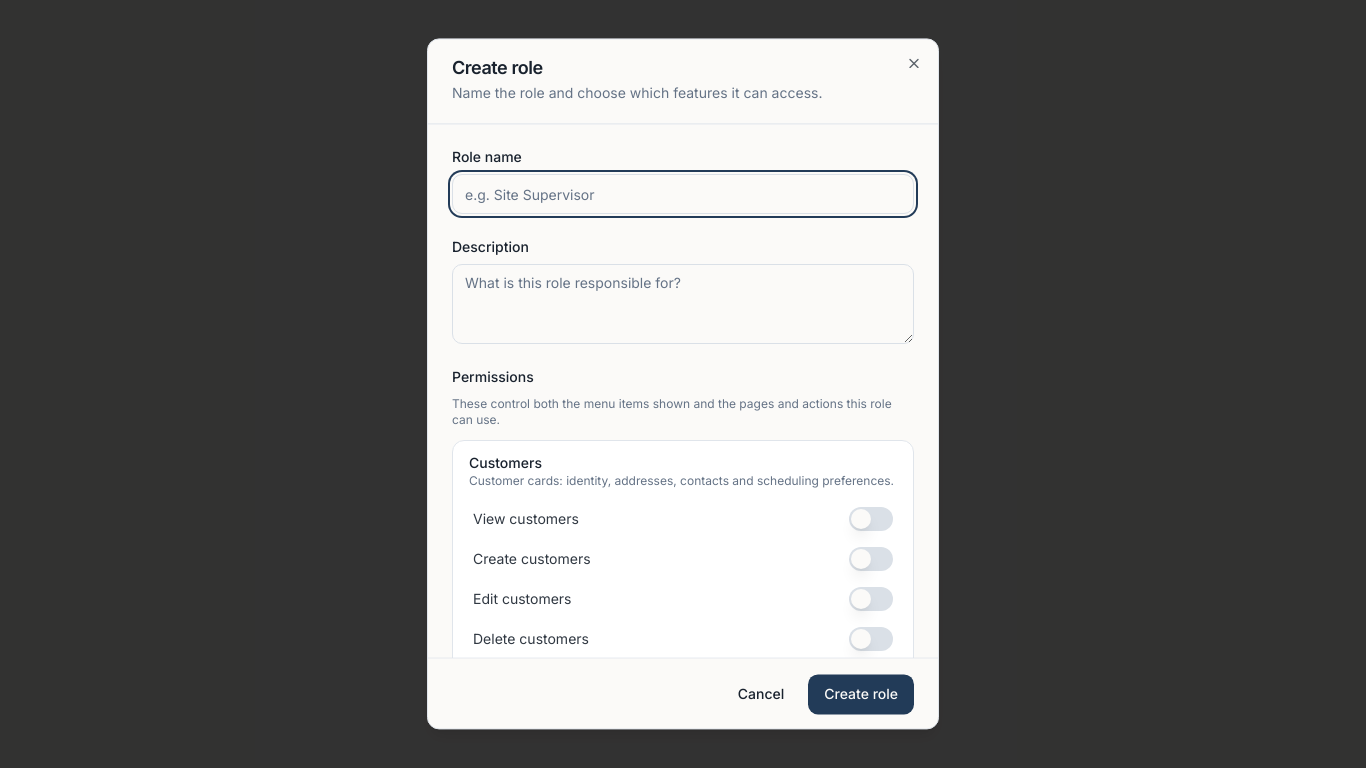
Test: CORE-WRITES-A2.1 RoleDialog › keeps the dialog open and shows an error when Supabase role create fails
Type "Broken Role" into the field labelled "Role name".
click(683, 194); type("Broken Role")  # box x1=452 y1=174 x2=914 y2=214
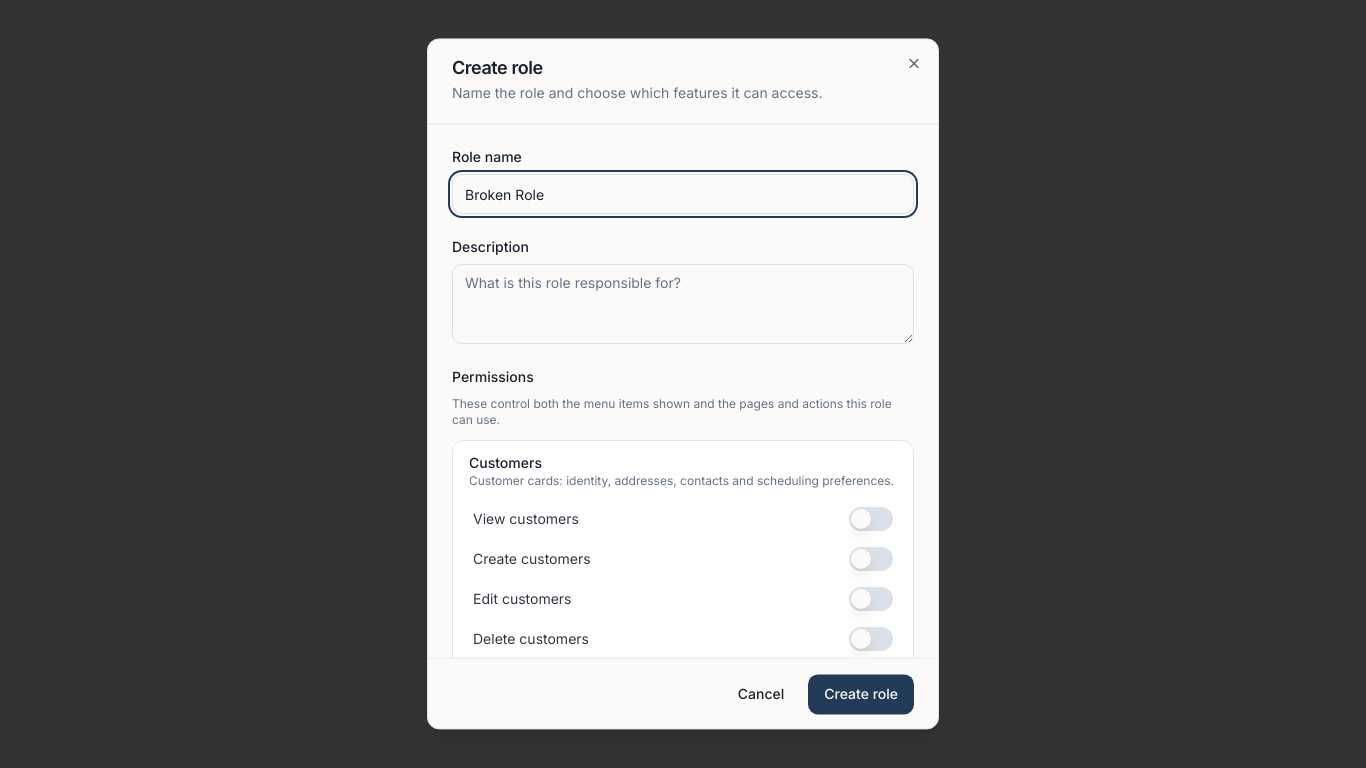
Click the button "Create role".
click(861, 695)  # box x1=808 y1=675 x2=914 y2=715
(page scrolled)
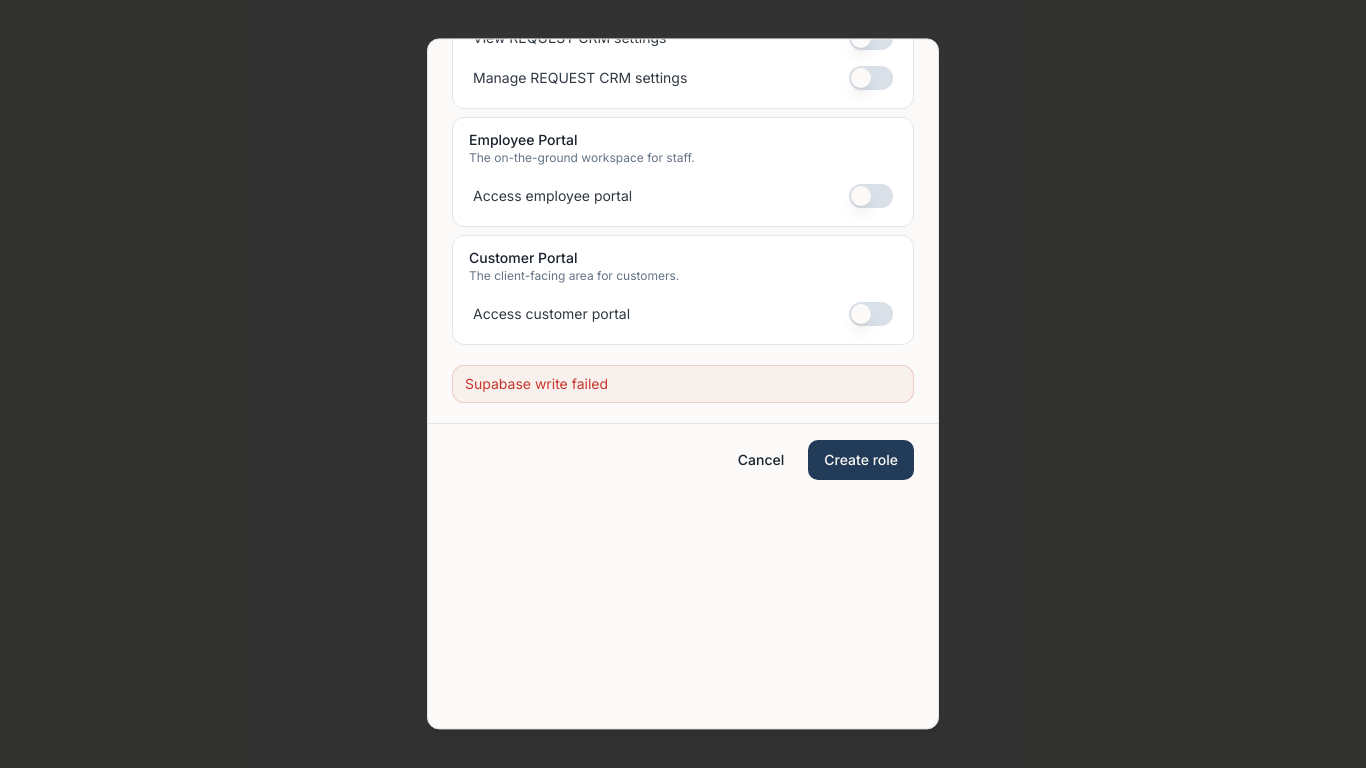
Result: the message reads "Supabase write failed" at x1=465 y1=375 x2=608 y2=392
